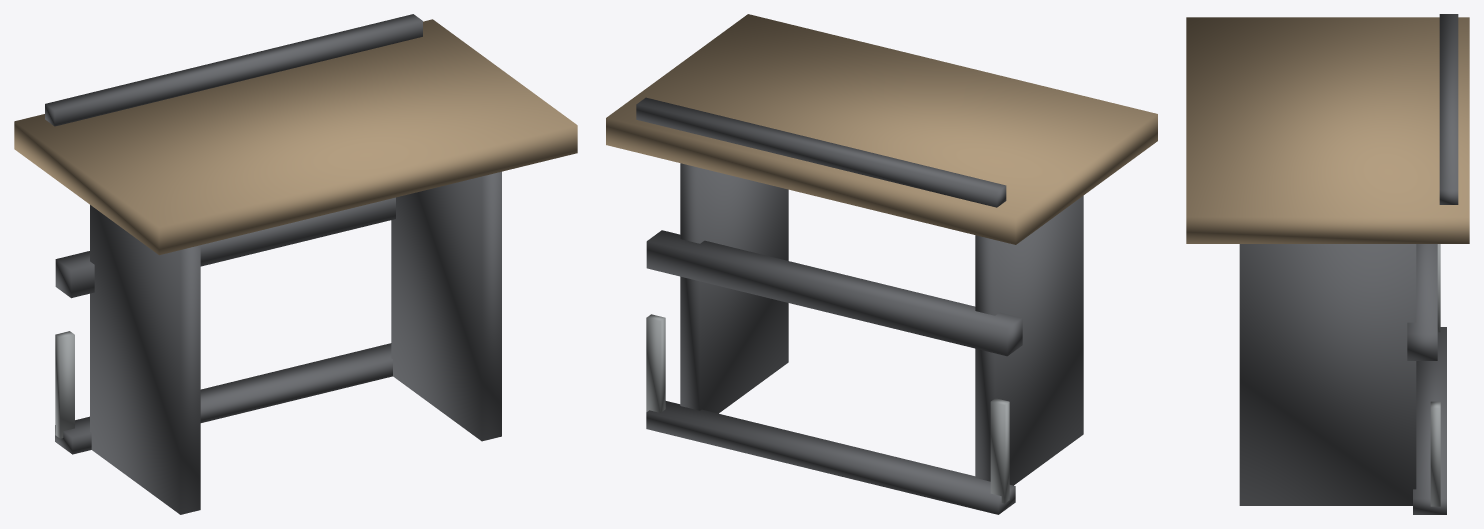
File: drafting_table__reinforced.glb
3 views of the same model, side by side, from view 1: azimuth 30°, elevation 25°; view 2: azimuth 150°, elevation 25°; view 3: azimuth 270°, elevation 25° (orthographic). The views are drawn at different scales.
Visible parts, largest first — view 1: world; view 2: world; view 3: world.
Part boxes in pixels (<box>): world: <box>14,14,577,514</box>; world: <box>606,14,1157,514</box>; world: <box>1186,14,1469,514</box>.
Bounding box in the file's own units: 1.29 × 0.9843 × 0.7725.
